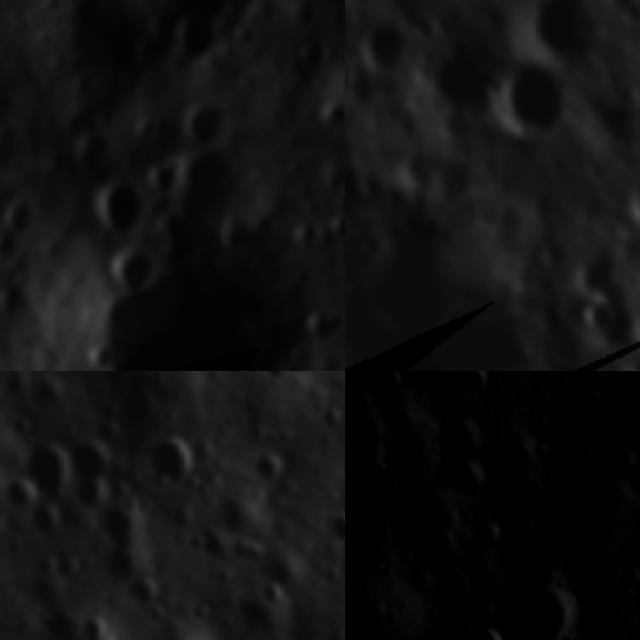crater: (345, 210, 624, 371), (86, 260, 295, 371), (483, 46, 576, 150), (162, 135, 254, 230), (491, 563, 585, 640), (530, 0, 609, 64), (93, 170, 162, 243), (131, 420, 202, 489), (177, 86, 244, 158), (163, 8, 227, 76), (345, 400, 393, 481), (148, 0, 279, 28), (358, 11, 411, 80), (431, 412, 489, 470), (106, 241, 160, 300), (590, 91, 640, 154), (0, 191, 55, 245), (389, 135, 442, 190), (345, 145, 380, 225), (299, 299, 345, 353), (428, 157, 475, 209), (291, 26, 336, 76), (134, 616, 218, 640), (124, 570, 169, 614), (246, 444, 292, 486), (22, 499, 63, 537), (255, 572, 295, 608), (350, 225, 390, 257), (457, 619, 515, 640), (289, 216, 321, 254), (586, 296, 616, 336), (455, 371, 494, 401), (316, 398, 345, 436), (324, 503, 345, 552), (327, 200, 345, 249), (626, 300, 640, 351)
